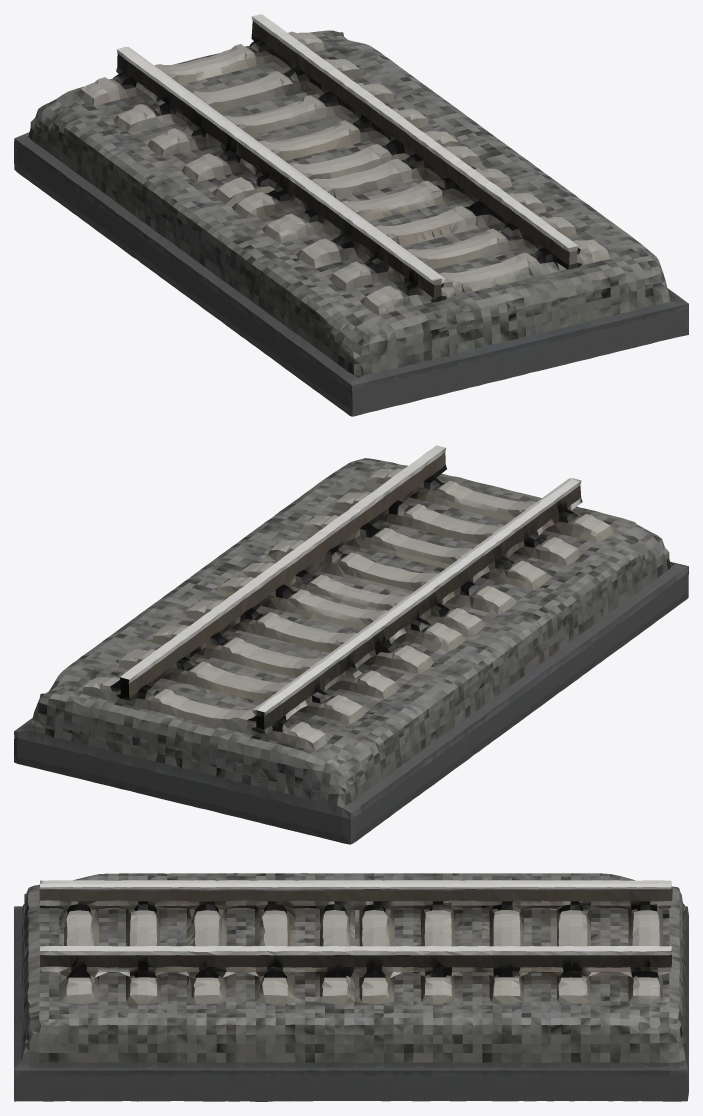
File: rail-segment.glb
The picture shows the model from 3 angles, top to bottom: view 1: azimuth 30°, elevation 25°; view 2: azimuth 150°, elevation 25°; view 3: azimuth 270°, elevation 25°; orthographic projection.
Parts seen in each view (by area): view 1: RAIL_SEGMENT_SOURCE; view 2: RAIL_SEGMENT_SOURCE; view 3: RAIL_SEGMENT_SOURCE.
Part boxes in pixels (bbox=[...]): RAIL_SEGMENT_SOURCE: bbox=[14, 14, 688, 416]; RAIL_SEGMENT_SOURCE: bbox=[14, 445, 688, 844]; RAIL_SEGMENT_SOURCE: bbox=[14, 873, 688, 1101].
Bounding box in the file's own units: 0.5932 × 0.1762 × 1.03.
Materials: 1 (1 with a texture image).
